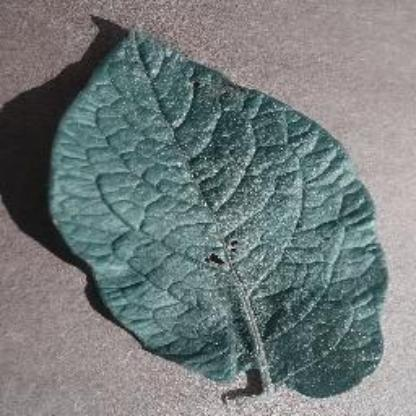Healthy-plant: (43, 20, 387, 402)
